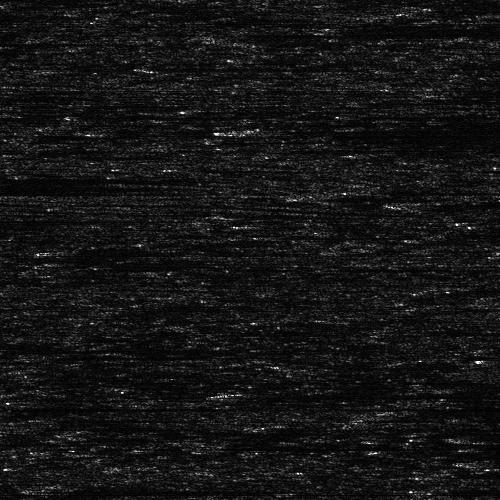rock: (190, 122, 305, 139), (379, 196, 484, 209), (184, 390, 299, 401), (5, 485, 88, 492), (395, 485, 468, 492), (205, 29, 236, 38), (465, 435, 500, 442), (465, 459, 500, 464), (330, 194, 371, 197)
shadow: (248, 122, 500, 139), (242, 390, 500, 401), (0, 107, 125, 128), (47, 485, 257, 492), (432, 196, 500, 209), (0, 176, 148, 181), (0, 105, 140, 110), (221, 29, 291, 38), (432, 485, 500, 492), (351, 194, 497, 197), (0, 11, 82, 16), (0, 218, 135, 221), (0, 184, 86, 187), (0, 188, 35, 193)
